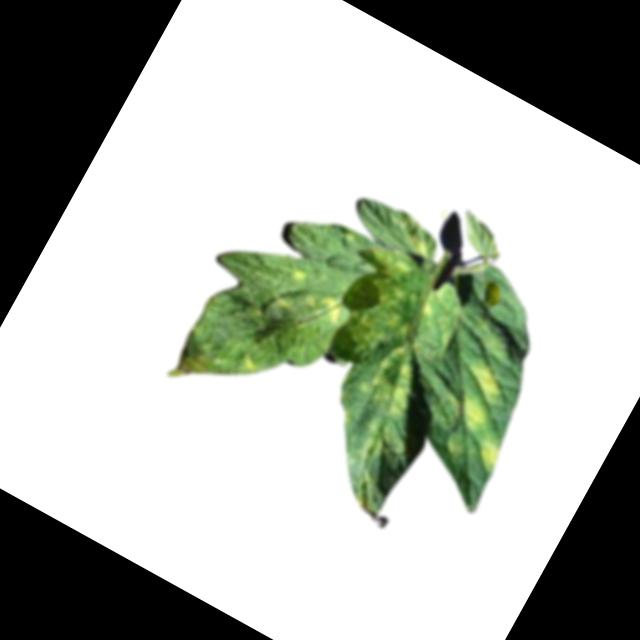Leaf_Mold: (317, 237, 439, 373), (347, 333, 433, 426), (434, 352, 510, 438), (343, 410, 410, 479), (162, 330, 225, 396), (298, 282, 347, 327), (472, 436, 509, 476), (233, 349, 260, 380), (284, 263, 311, 291)
